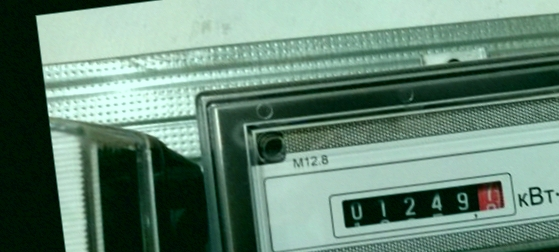0: (348, 199, 364, 221)
1: (375, 196, 389, 219)
2: (400, 194, 418, 217)
4: (428, 190, 444, 212)
7: (482, 181, 497, 202)
9: (455, 189, 470, 212)
screen: (325, 167, 520, 241)
